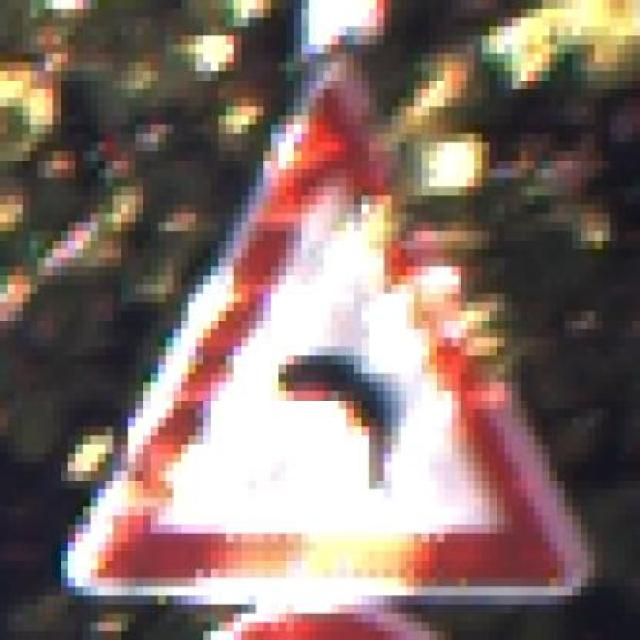Dangerous Left Curve Ahead: (60, 44, 603, 614)
